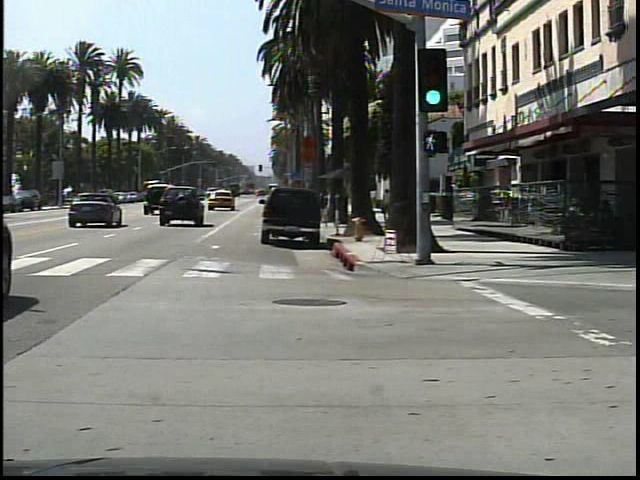person: (381, 185, 393, 227)
